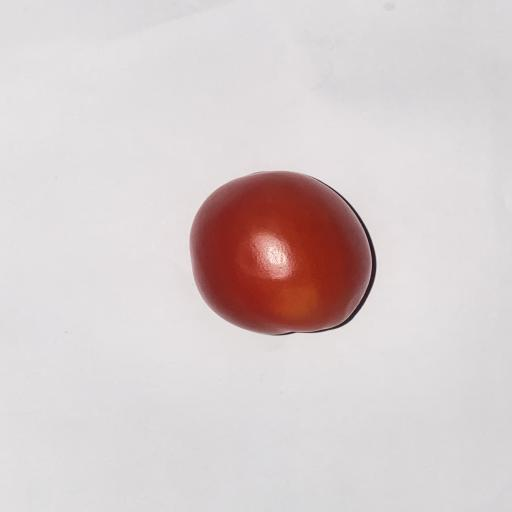ripe: (190, 171, 372, 334)
